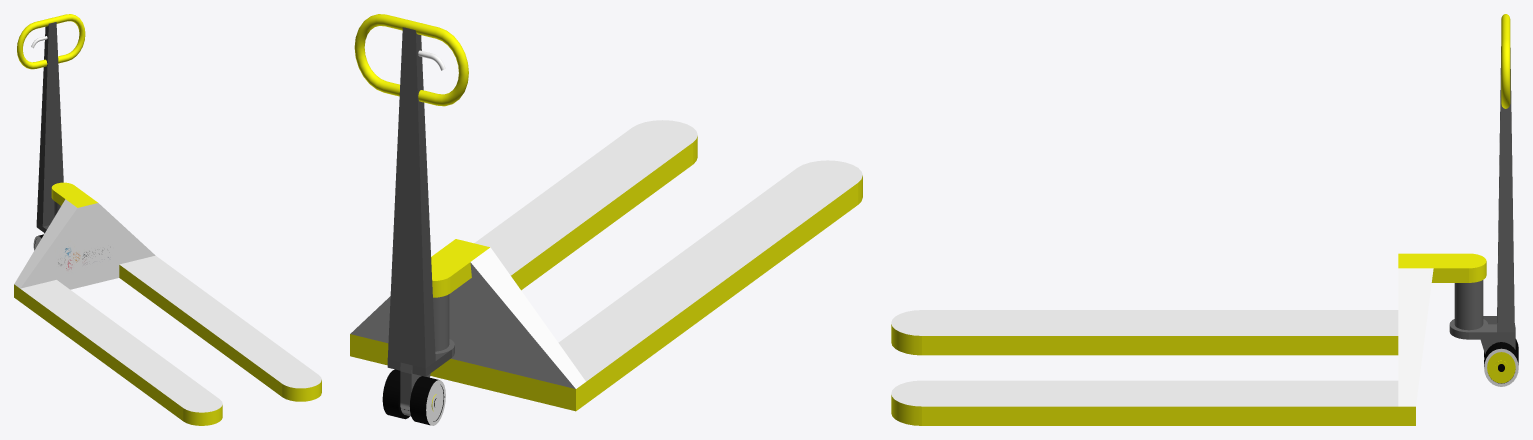
The model's file is SmallJockey.obj.
3 renders of one model, left to right at view 1: azimuth 30°, elevation 25°; view 2: azimuth 150°, elevation 25°; view 3: azimuth 270°, elevation 25°, orthographic. The views are drawn at different scales.
Parts seen in each view (by area): view 1: Mesh1 ___14_1 Model, Mesh2 ___14_1 Model; view 2: Mesh1 ___14_1 Model; view 3: Mesh1 ___14_1 Model.
Boxes of the visible parts, x1,y1,x2,y2 form: Mesh1 ___14_1 Model: (14,14,321,425); Mesh2 ___14_1 Model: (54,226,120,279); Mesh1 ___14_1 Model: (350,14,862,425); Mesh1 ___14_1 Model: (891,14,1518,425).
Bounding box in the file's own units: 540 × 914 × 1485.
Materials: 6 (1 with a texture image).
